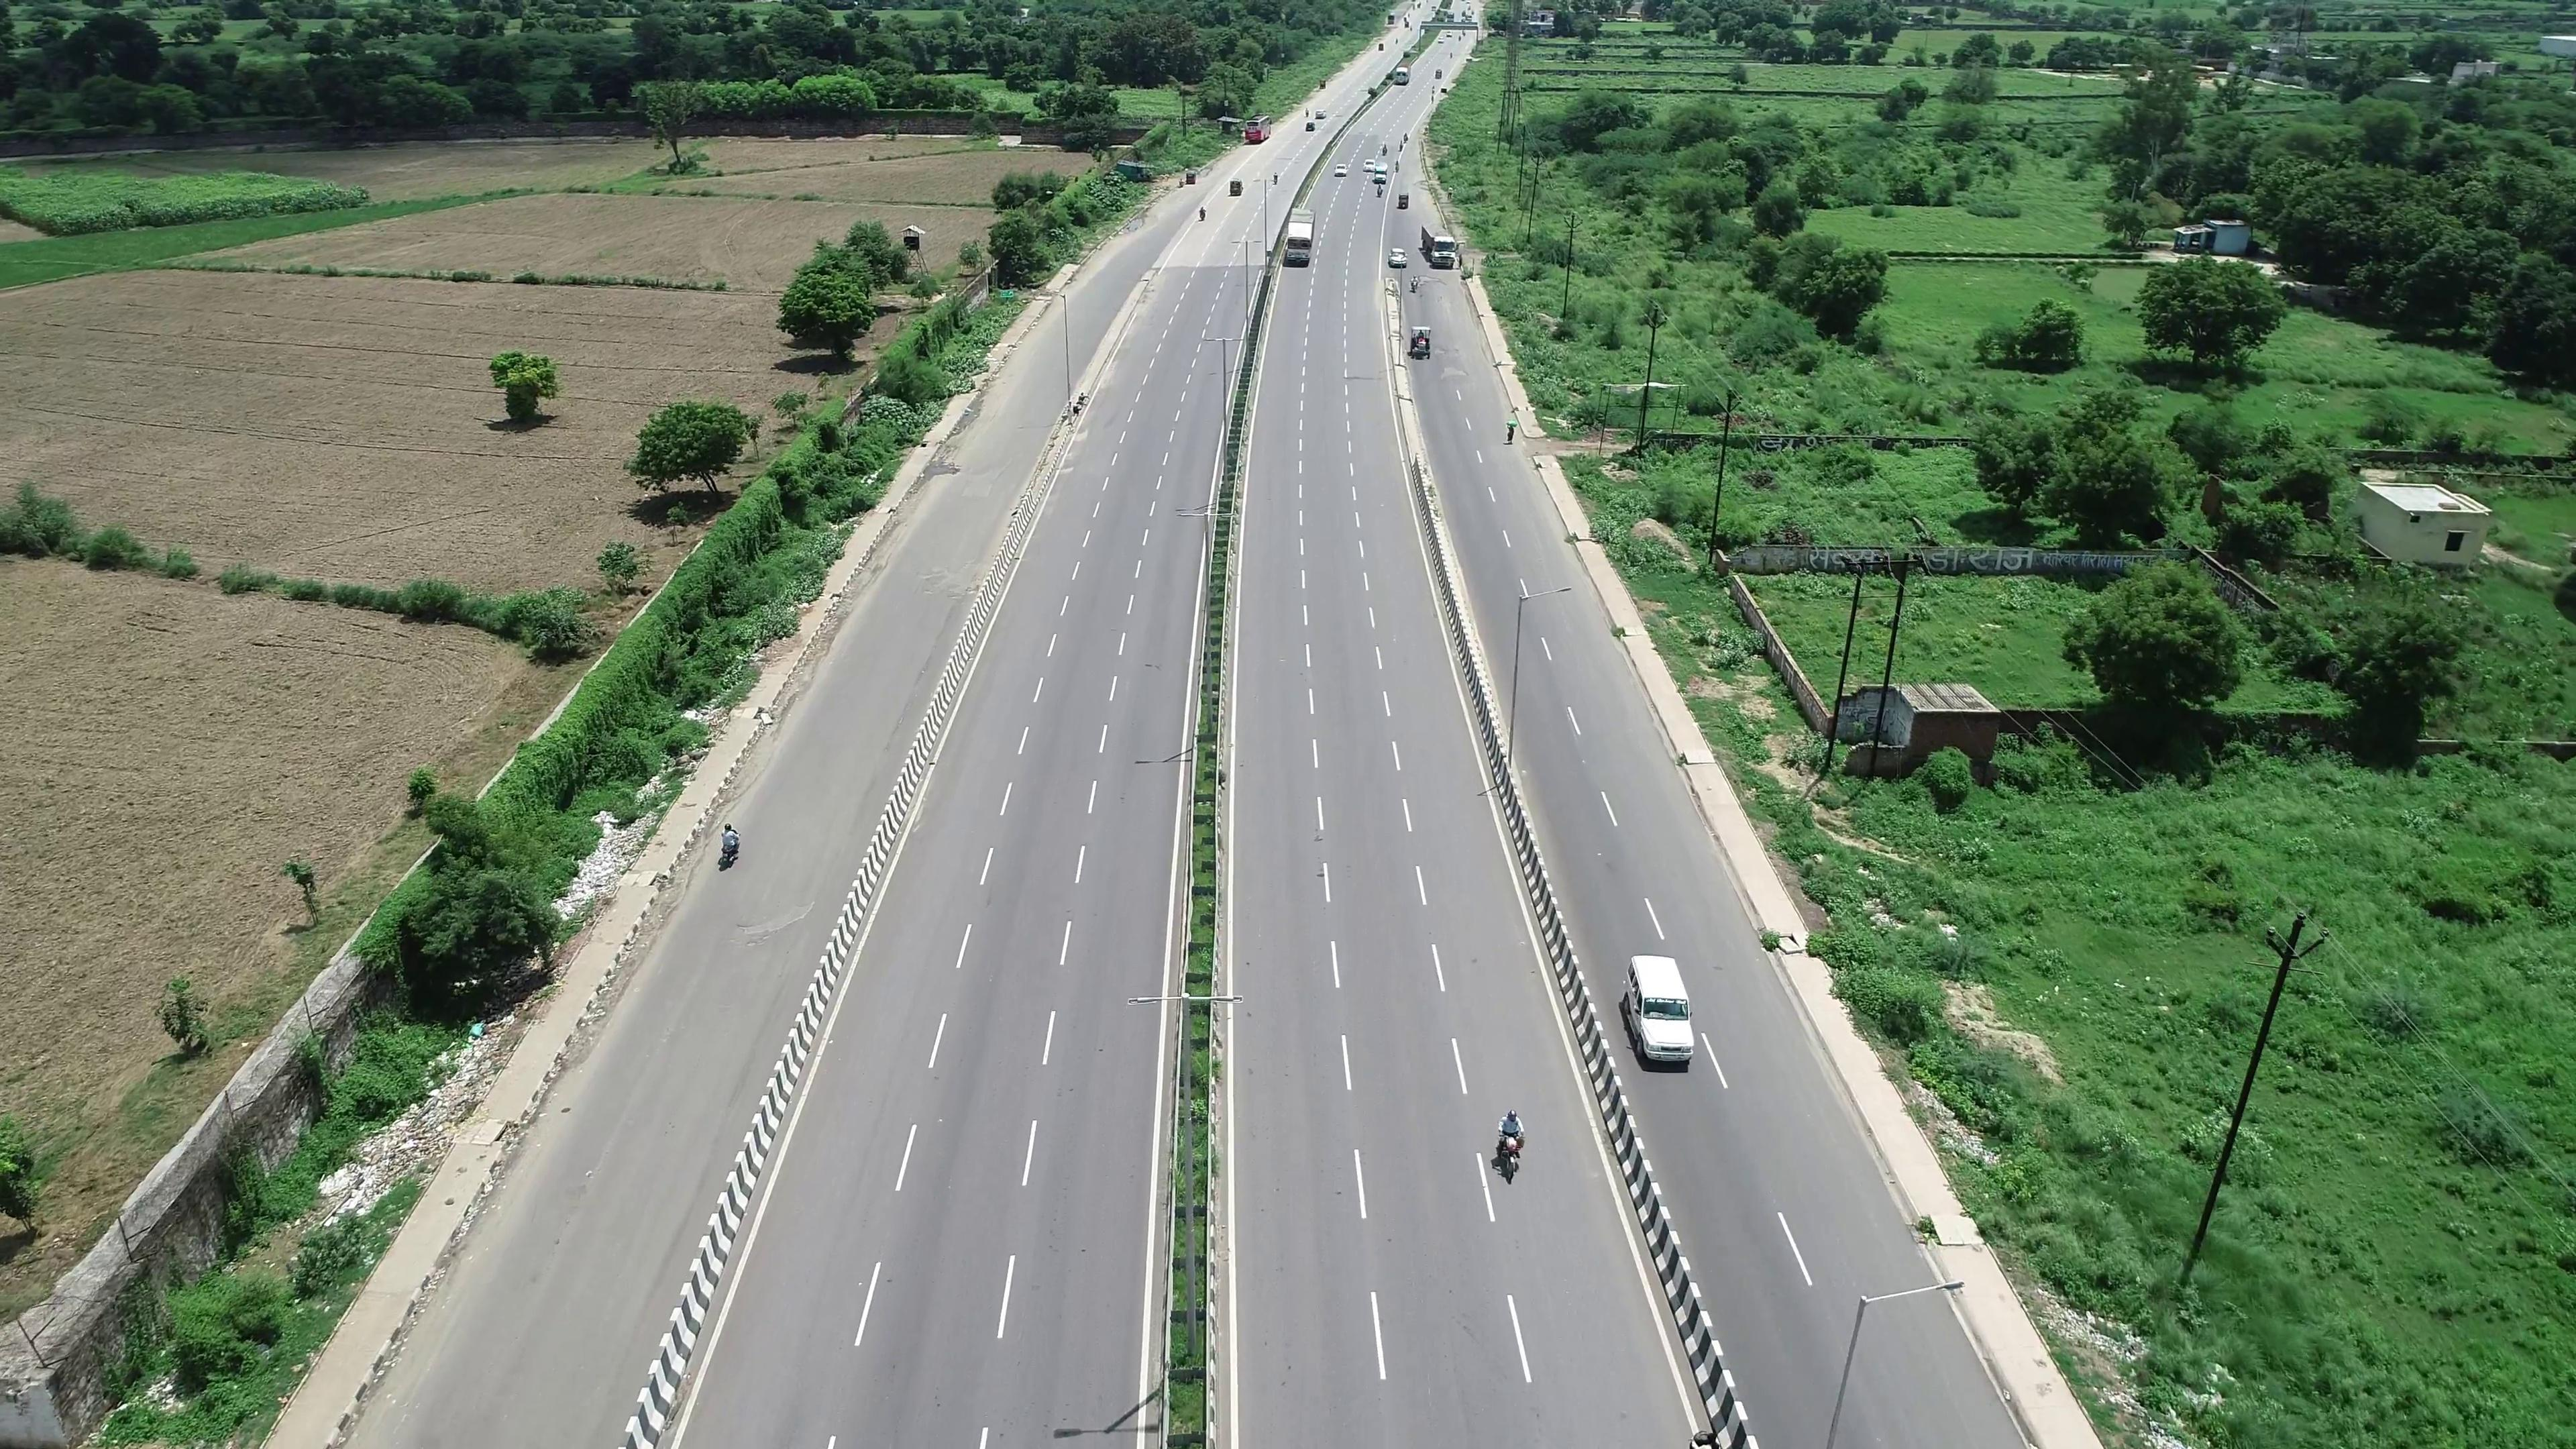Road_side_garbage: (343, 1028, 494, 1185), (557, 817, 640, 908)
